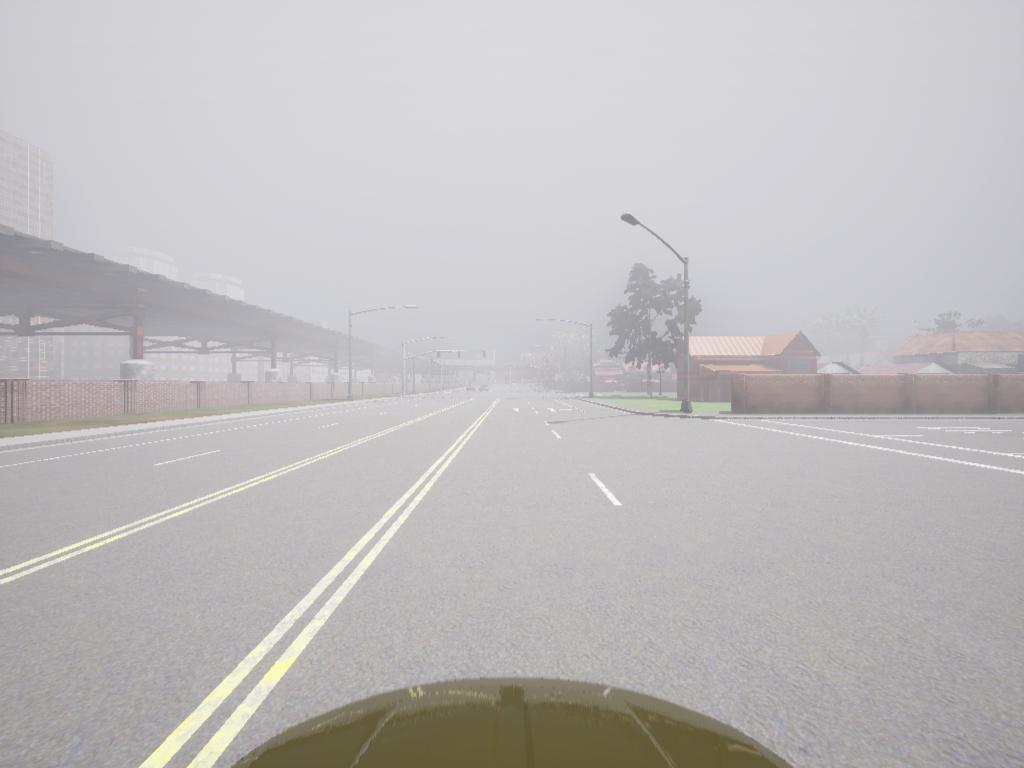traffic_light: (437, 351, 443, 361), (458, 351, 463, 359), (484, 351, 487, 359)
